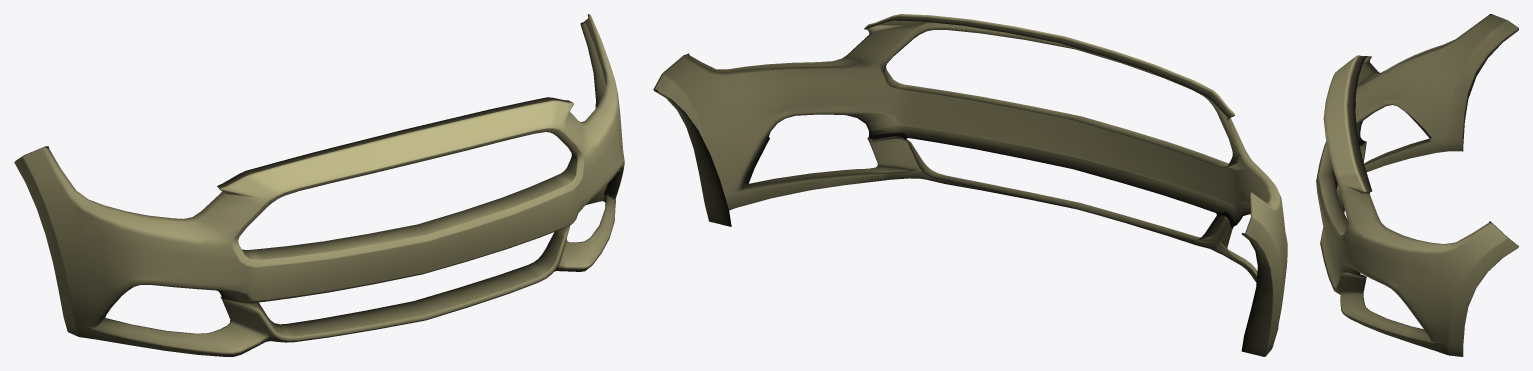
Rendered from Mustang16_FB_01_Duco.fbx.
3 views of the same model, side by side, from view 1: azimuth 30°, elevation 25°; view 2: azimuth 150°, elevation 25°; view 3: azimuth 270°, elevation 25° (orthographic). The views are drawn at different scales.
Parts seen in each view (by area): view 1: Mustang16_FB_01_Duco; view 2: Mustang16_FB_01_Duco; view 3: Mustang16_FB_01_Duco.
Boxes of the visible parts, box(x1,y1,x2,y2) form: Mustang16_FB_01_Duco: box(14, 14, 624, 356); Mustang16_FB_01_Duco: box(653, 14, 1287, 356); Mustang16_FB_01_Duco: box(1316, 14, 1518, 356).
Bounding box in the file's own units: 184 × 58.06 × 71.96.
